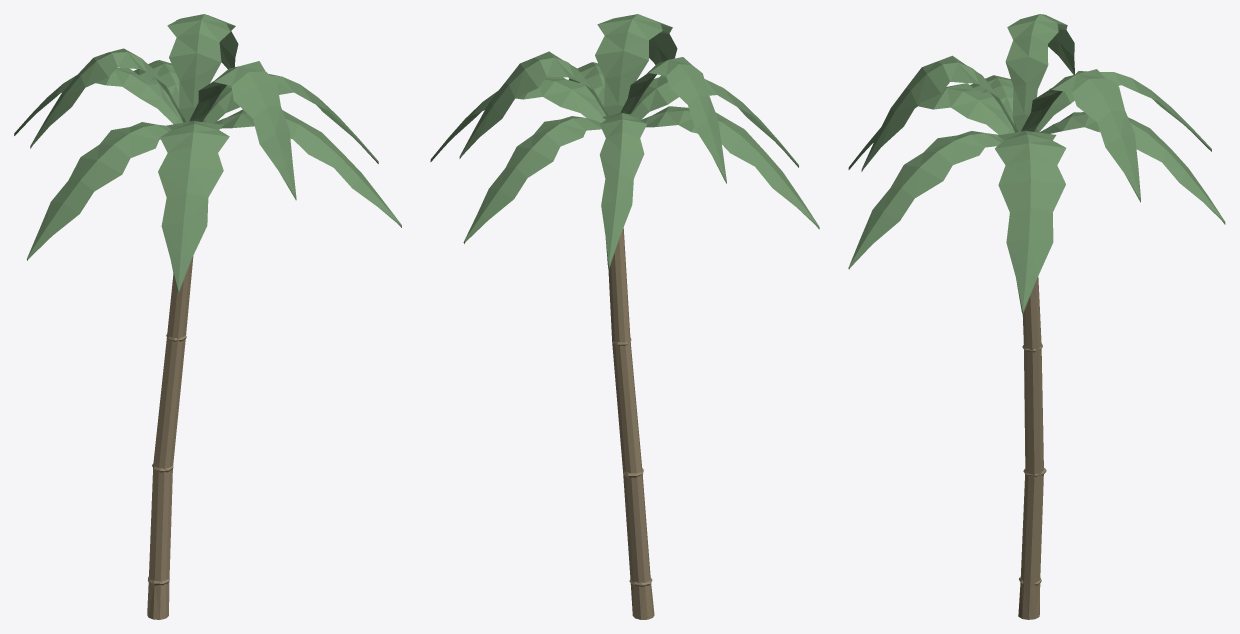
File: palm.fbx
3 views of the same model, side by side, from view 1: azimuth 30°, elevation 25°; view 2: azimuth 150°, elevation 25°; view 3: azimuth 270°, elevation 25° (orthographic). The views are drawn at different scales.
Visible parts, largest first — view 1: palm; view 2: palm; view 3: palm.
Boxes of the visible parts, <box> form: palm: <box>14,14,401,619</box>; palm: <box>430,14,819,619</box>; palm: <box>848,14,1225,619</box>.
Size of the model in its own units: 6.83 by 10 by 5.88.
